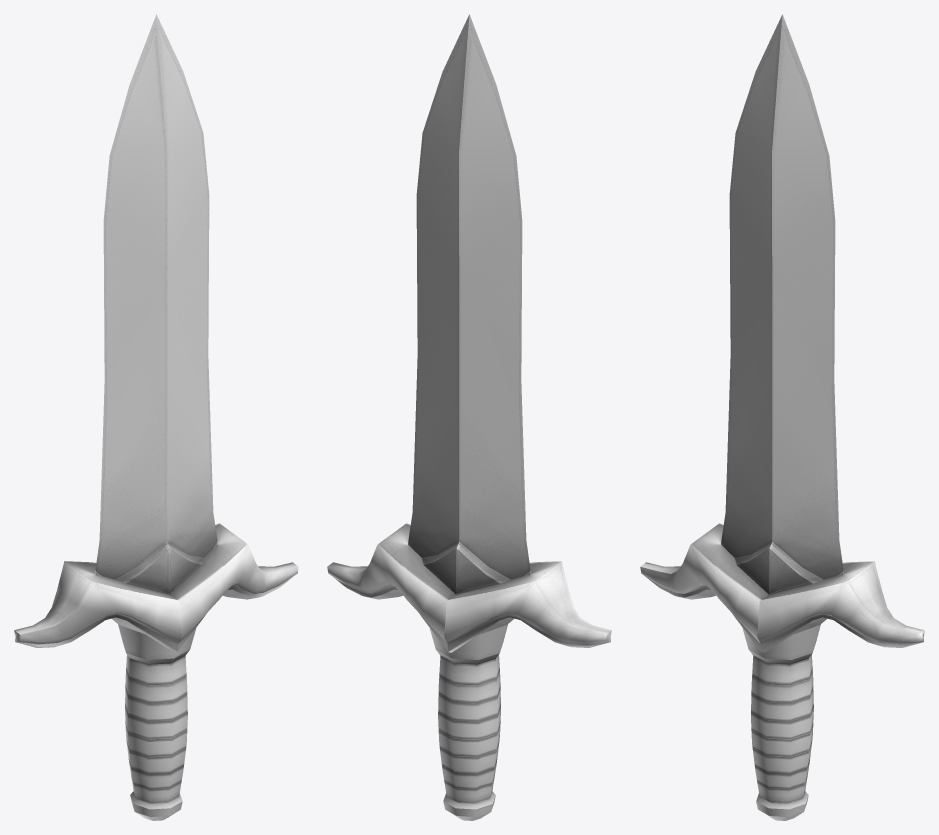
The picture shows the model from 3 angles, left to right: view 1: azimuth 30°, elevation 25°; view 2: azimuth 150°, elevation 25°; view 3: azimuth 330°, elevation 25°; orthographic projection.
Visible parts, largest first — view 1: 004_a_shortsword; view 2: 004_a_shortsword; view 3: 004_a_shortsword.
Part boxes in pixels (box(x1,y1,x2,y2)): 004_a_shortsword: box(14, 14, 298, 820); 004_a_shortsword: box(327, 14, 611, 820); 004_a_shortsword: box(640, 14, 924, 820).
Bounding box in the file's own units: 22.34 × 60.43 × 6.91.
